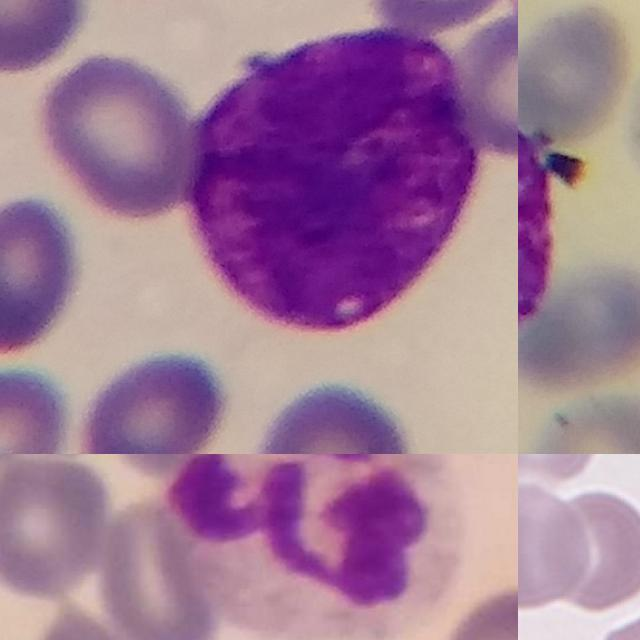Basophil: (186, 25, 481, 329)
Neutrophil: (170, 454, 468, 640)
RBC: (541, 484, 640, 616), (518, 479, 594, 614)
